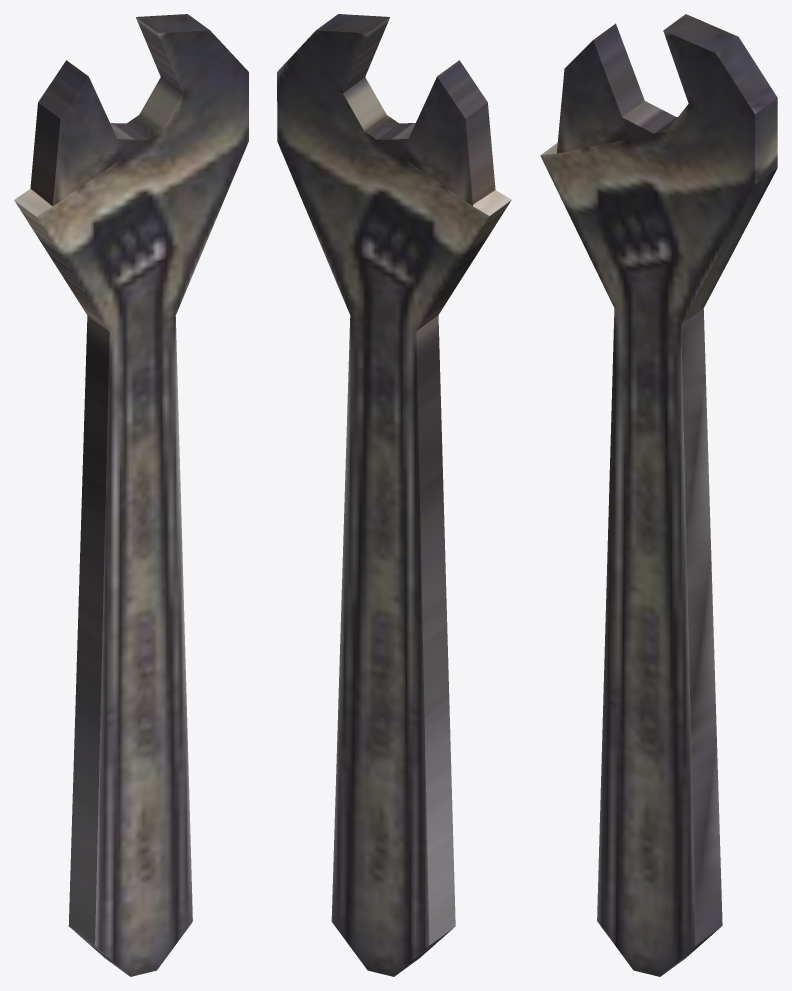
The model's file is AdjustableWrench.obj.
3 views of the same model, side by side, from view 1: azimuth 30°, elevation 25°; view 2: azimuth 150°, elevation 25°; view 3: azimuth 330°, elevation 25° (orthographic).
Parts seen in each view (by area): view 1: AWrench; view 2: AWrench; view 3: AWrench.
Part boxes in pixels (left/top/right/bottom): AWrench: left=14, top=14, right=248, bottom=976; AWrench: left=277, top=14, right=511, bottom=976; AWrench: left=540, top=14, right=777, bottom=976.
Bounding box in the file's own units: 0.7818 × 3.29 × 0.1674.
Materials: 1 (1 with a texture image).
